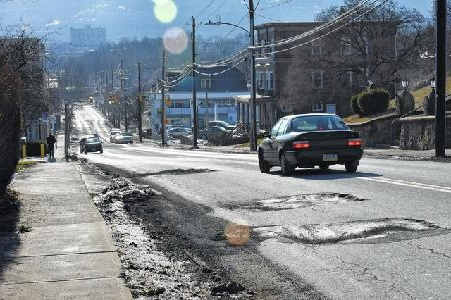pothole: (278, 215, 447, 245), (251, 191, 368, 213), (153, 165, 218, 174)
